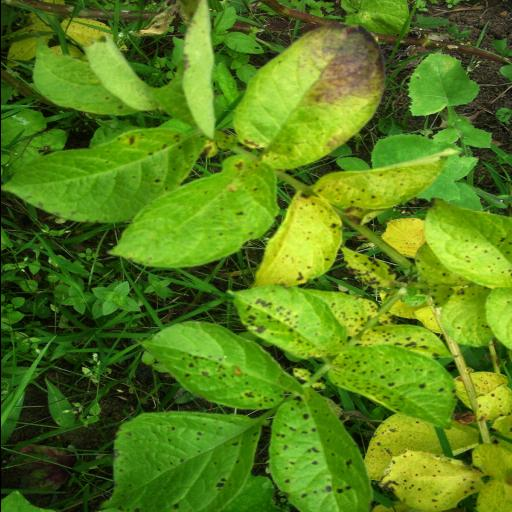Septoria: (0, 118, 208, 225), (100, 156, 280, 276), (96, 409, 266, 512), (137, 315, 313, 406), (300, 340, 468, 422), (264, 392, 372, 512), (224, 288, 356, 360), (302, 152, 450, 212), (254, 196, 342, 296), (424, 200, 512, 290), (379, 448, 480, 510), (338, 243, 400, 297)
